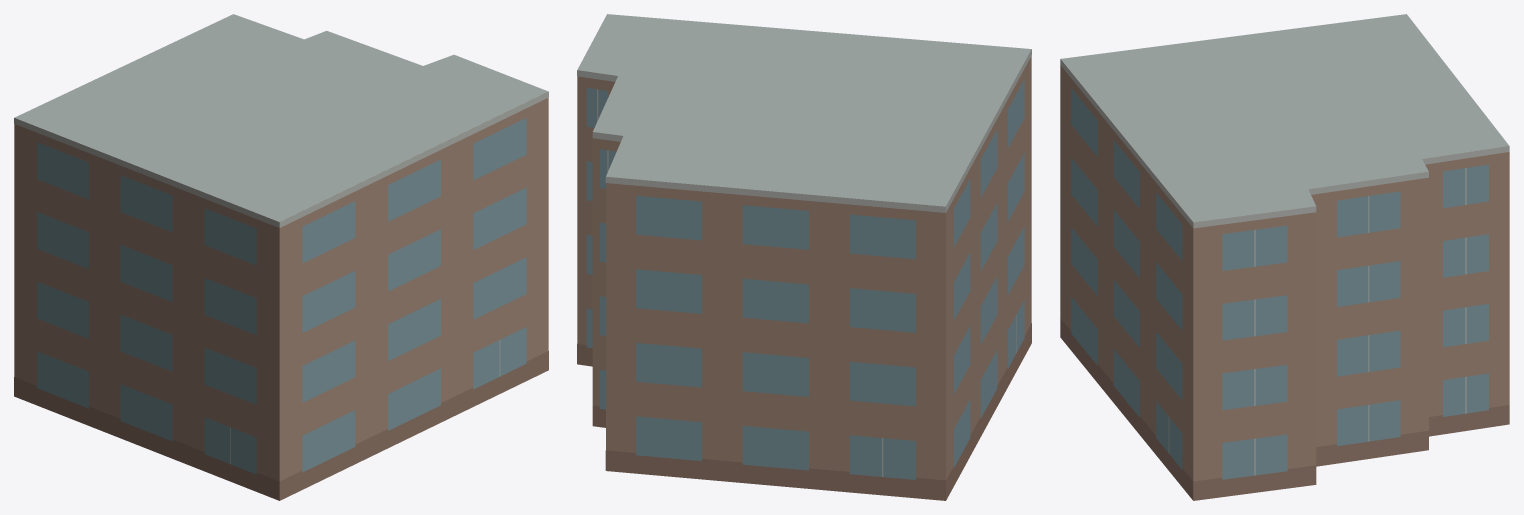
Rendered from survey-upis-32738109.glb.
3 renders of one model, left to right at view 1: azimuth 30°, elevation 25°; view 2: azimuth 150°, elevation 25°; view 3: azimuth 270°, elevation 25°, orthographic. The views are drawn at different scales.
Visible parts, largest first — view 1: survey-upis-32738109.tmp; view 2: survey-upis-32738109.tmp; view 3: survey-upis-32738109.tmp.
Part boxes in pixels (<box>): survey-upis-32738109.tmp: <box>14,14,548,500</box>; survey-upis-32738109.tmp: <box>577,14,1031,500</box>; survey-upis-32738109.tmp: <box>1060,14,1509,500</box>.
Size of the model in its own units: 18.4 by 11.45 by 16.75.
